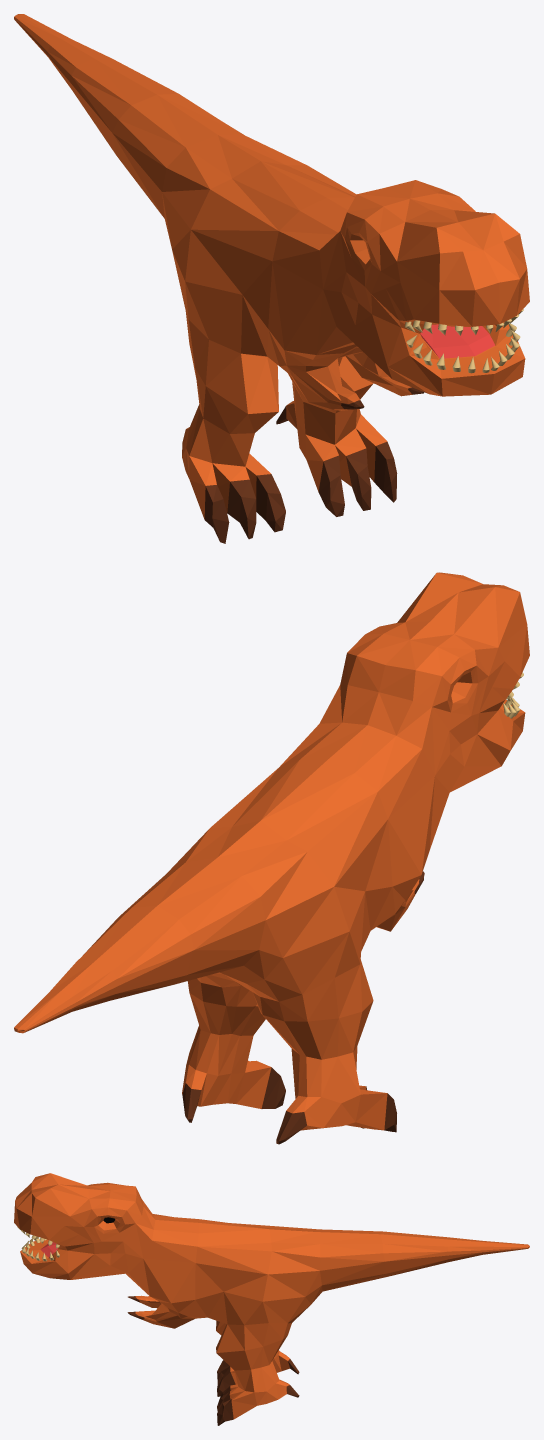
Rendered from DinoMalOrigin.fbx.
3 renders of one model, top to bottom at view 1: azimuth 30°, elevation 25°; view 2: azimuth 150°, elevation 25°; view 3: azimuth 270°, elevation 25°, orthographic. The views are drawn at different scales.
Parts seen in each view (by area): view 1: Dino; view 2: Dino; view 3: Dino.
Boxes of the visible parts, x1,y1,x2,y2 form: Dino: (14,14,529,543); Dino: (14,572,529,1144); Dino: (14,1173,529,1425).
Size of the model in its own units: 359 by 780 by 1626.
